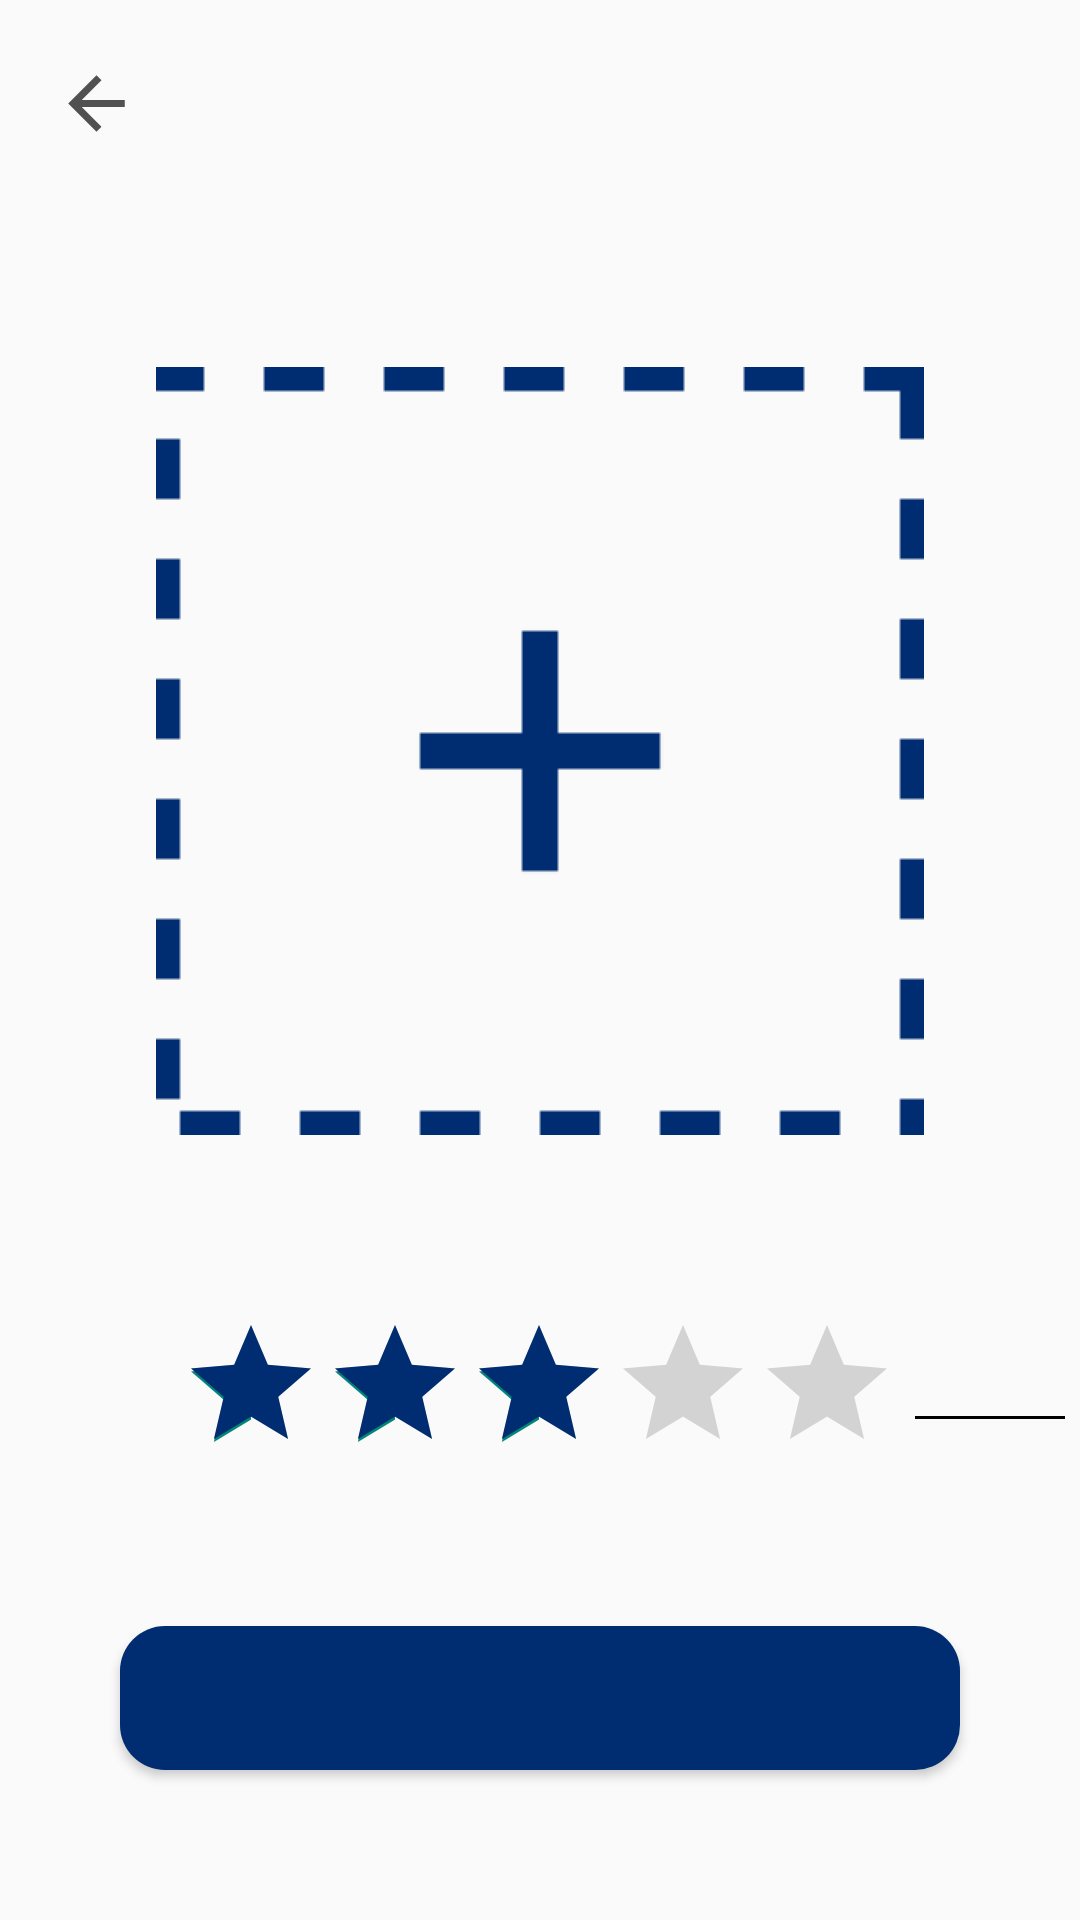

Screen size 1080w x 1920h. Icon name, then its center in pixels as [x,y]:
back: [96,103]
